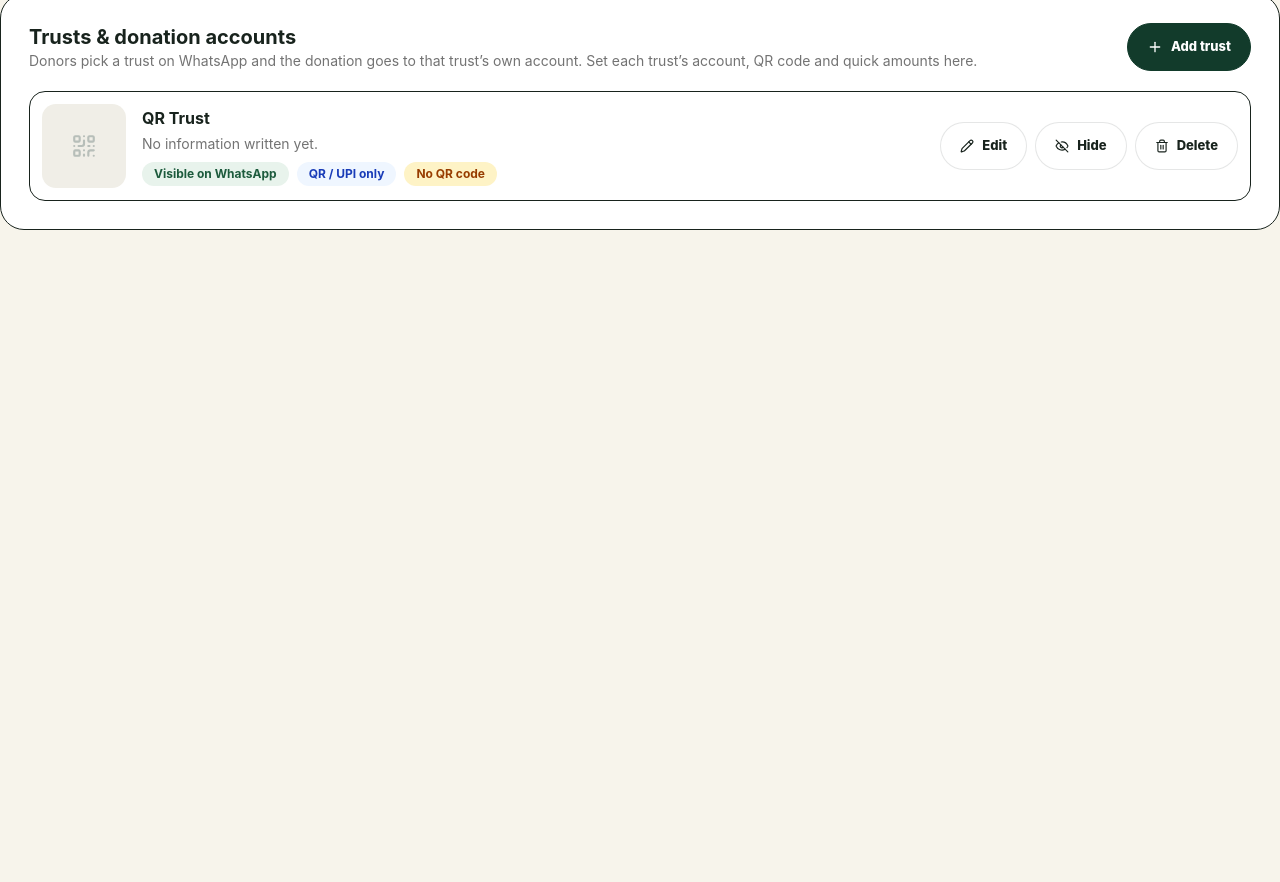
Test case: Round 7: profile, delivery charge, trust payment account, room bookings › QR-only trust must have a QR image or UPI id
The image size is (1280, 882).
Click the button "Edit" at (984, 146), box [940, 122, 1027, 170]
(page scrolled)
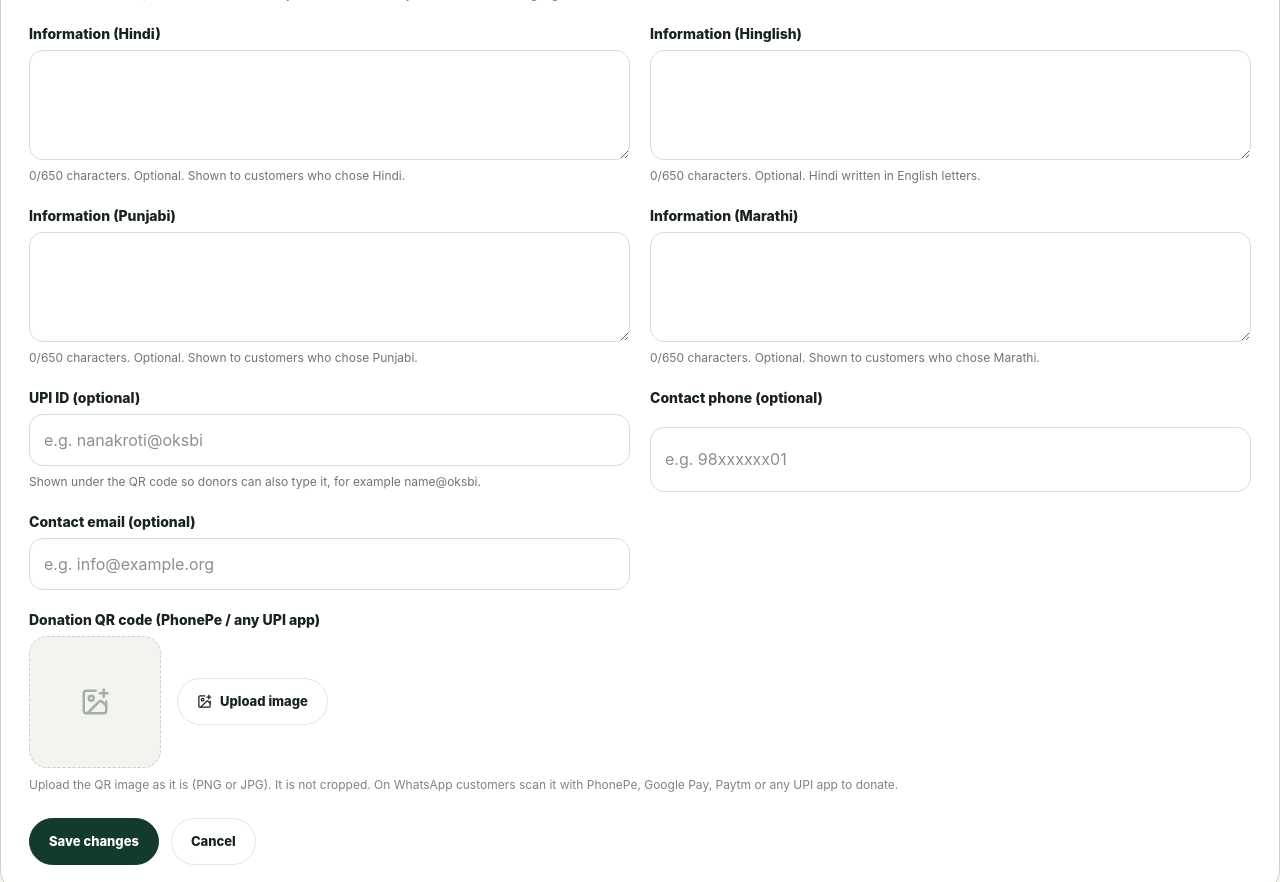
Click the button "Save changes" at (94, 841), box [29, 818, 159, 865]
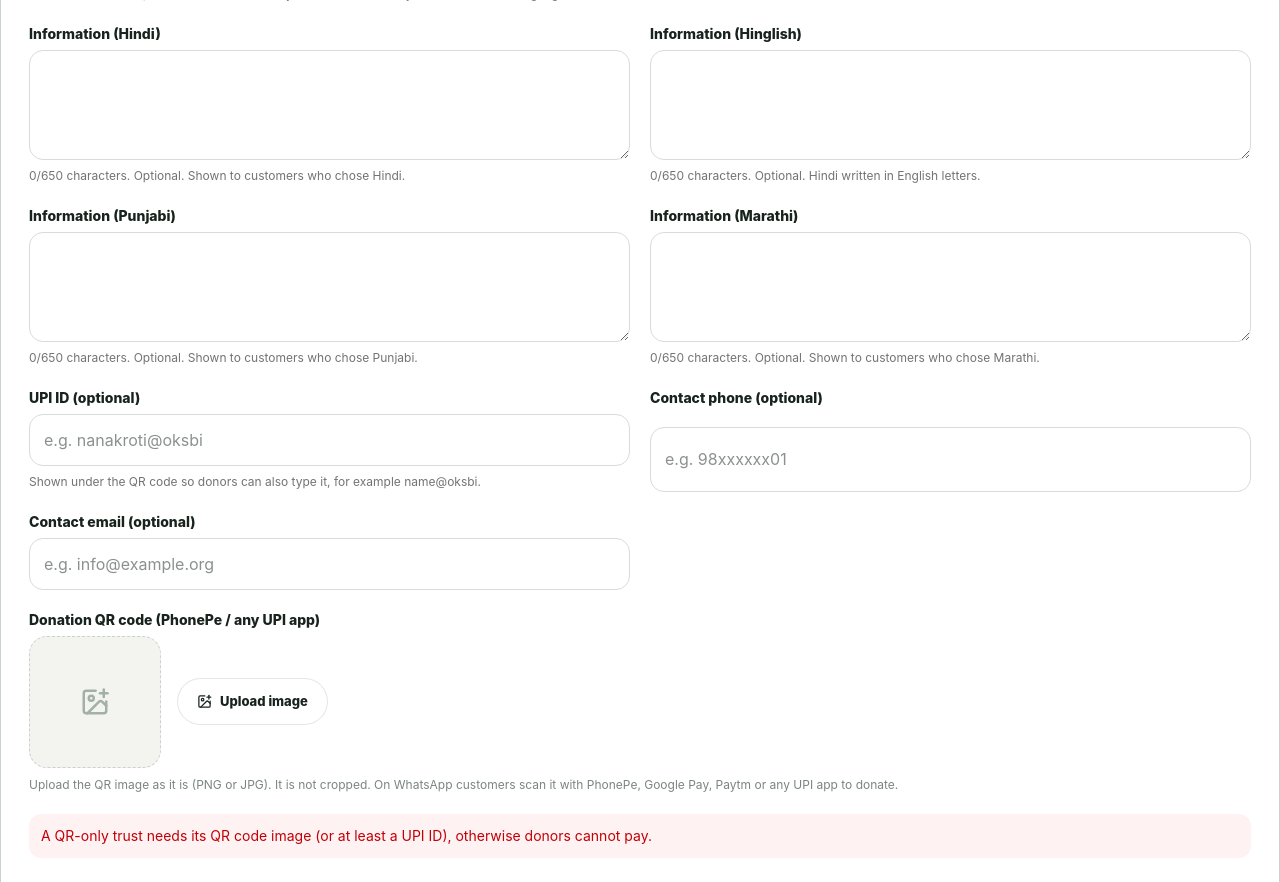
Result: the message shows "needs its QR code image" at [41, 826, 652, 844]
